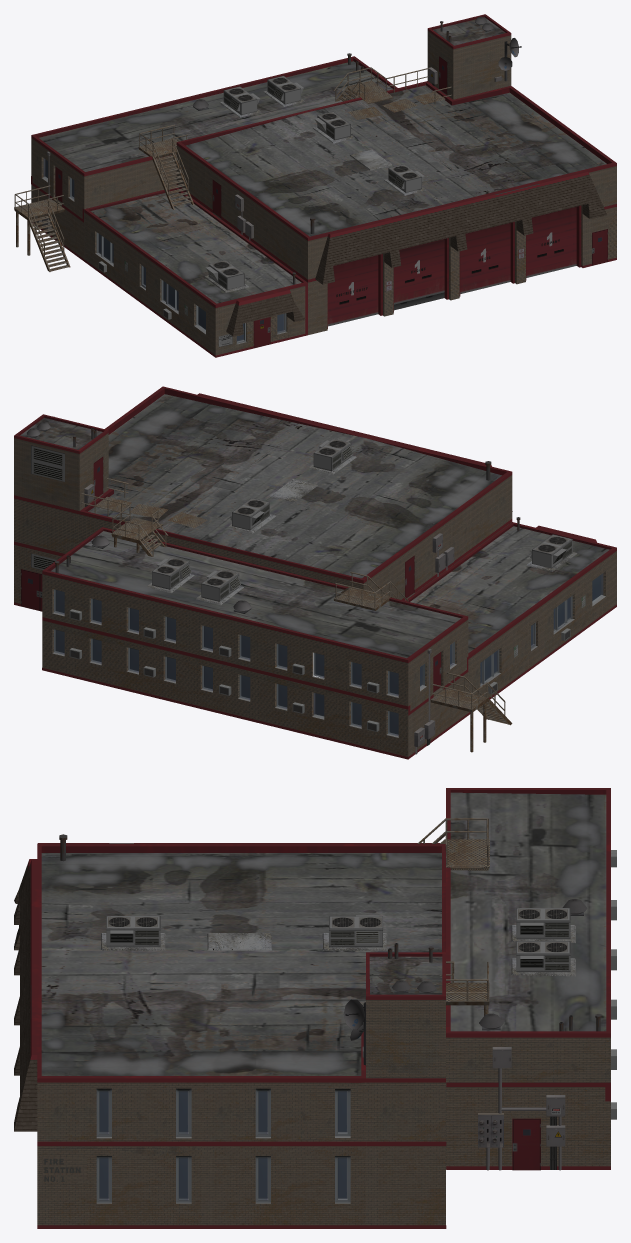
File: fire_station_no._1.glb
The picture shows the model from 3 angles, top to bottom: view 1: azimuth 30°, elevation 25°; view 2: azimuth 150°, elevation 25°; view 3: azimuth 270°, elevation 25°; orthographic projection. The views are drawn at different scales.
Parts seen in each view (by area): view 1: LOD0; view 2: LOD0; view 3: LOD0.
Part boxes in pixels (x1=…): LOD0: x1=14, y1=14, x2=616, y2=357; LOD0: x1=14, y1=386, x2=616, y2=759; LOD0: x1=14, y1=788, x2=616, y2=1228.
Bounding box in the file's own units: 31.27 × 10.57 × 23.61.
Materials: 1 (1 with a texture image).
